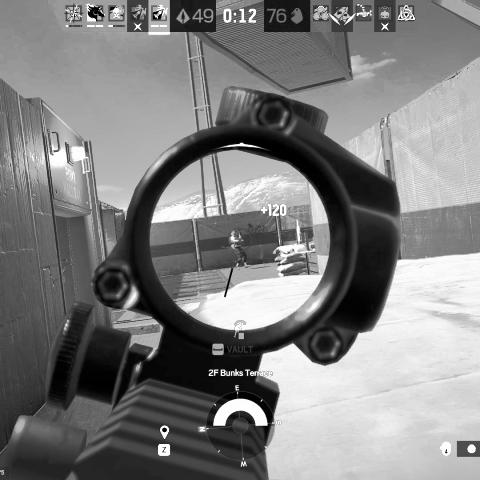Character: (230, 230, 252, 270)
Head: (231, 230, 237, 237)
